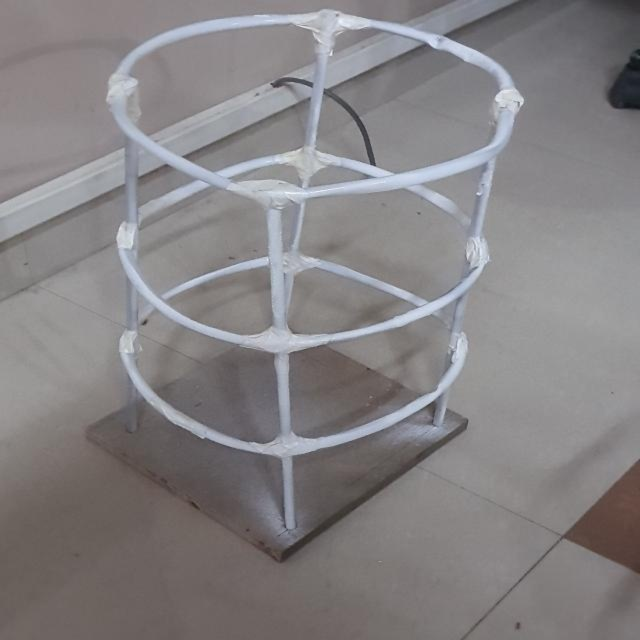silo: (96, 9, 473, 518)
